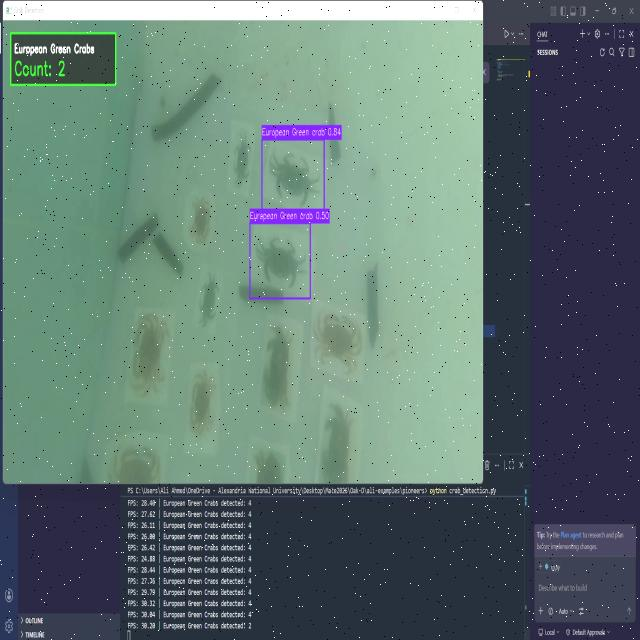European_Green_Crab: (252, 230, 307, 295), (264, 143, 318, 209), (195, 273, 219, 329), (229, 131, 251, 190)
